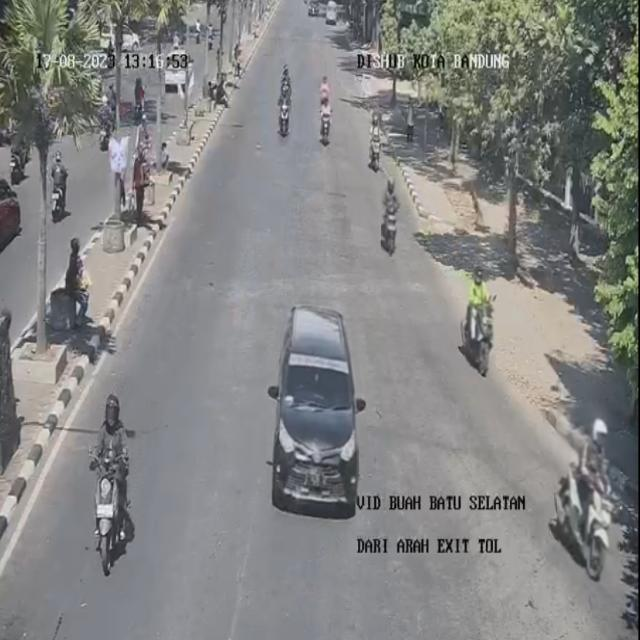cars: (280, 297, 359, 504)
motorcycle: (557, 402, 620, 597), (90, 386, 138, 572), (463, 277, 495, 374), (382, 176, 404, 257), (272, 65, 294, 145), (314, 86, 333, 148), (368, 111, 385, 174), (315, 73, 331, 109)
